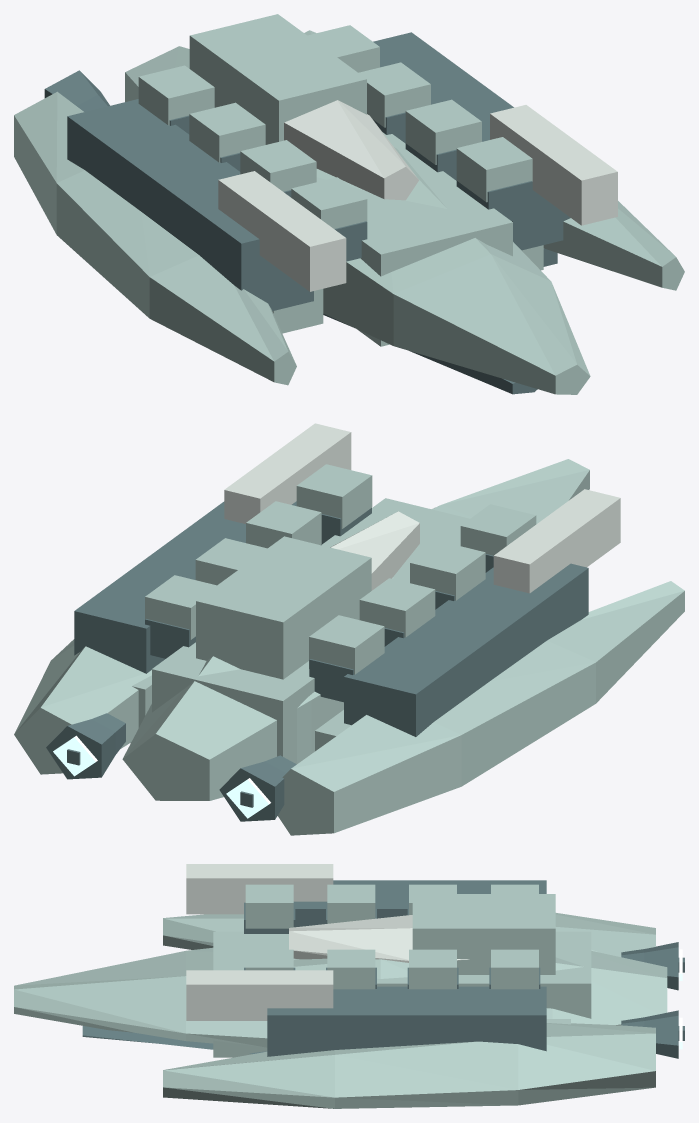
The picture shows the model from 3 angles, top to bottom: view 1: azimuth 30°, elevation 25°; view 2: azimuth 150°, elevation 25°; view 3: azimuth 270°, elevation 25°; orthographic projection. The views are drawn at different scales.
Size of the model in its own units: 16.5 by 6.14 by 26.27.
